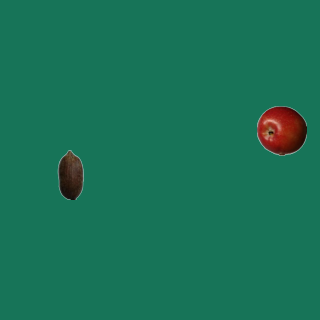Apple Braeburn: (256, 105, 306, 155)
Nut Pecan: (45, 149, 95, 199)
